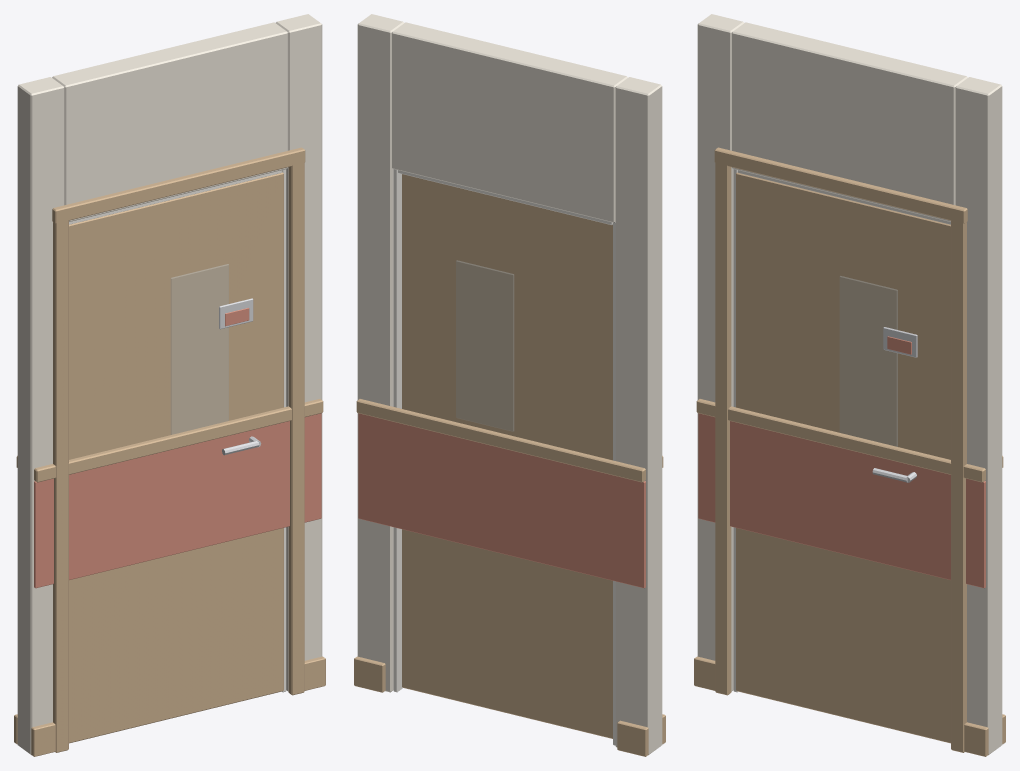
The model's file is care-home-and-day-room-bedroom-door-module-a1da9daa__35728.glb.
3 views of the same model, side by side, from view 1: azimuth 30°, elevation 25°; view 2: azimuth 150°, elevation 25°; view 3: azimuth 330°, elevation 25° (orthographic).
Parts seen in each view (by area): view 1: bedroom-door-module, door-1/wood, door-1/glass; view 2: bedroom-door-module, door-1/wood, door-1/glass; view 3: bedroom-door-module, door-1/wood, door-1/glass.
Boxes of the visible parts, box(x1,y1,x2,y2) form: bedroom-door-module: box(14, 14, 325, 756); door-1/wood: box(69, 172, 283, 743); door-1/glass: box(171, 264, 228, 434); bedroom-door-module: box(354, 14, 665, 756); door-1/wood: box(402, 174, 612, 738); door-1/glass: box(456, 260, 513, 431); bedroom-door-module: box(694, 14, 1005, 756); door-1/wood: box(736, 172, 950, 743); door-1/glass: box(840, 276, 897, 446).
Size of the model in its own units: 1.2 by 2.6 by 0.1909.
